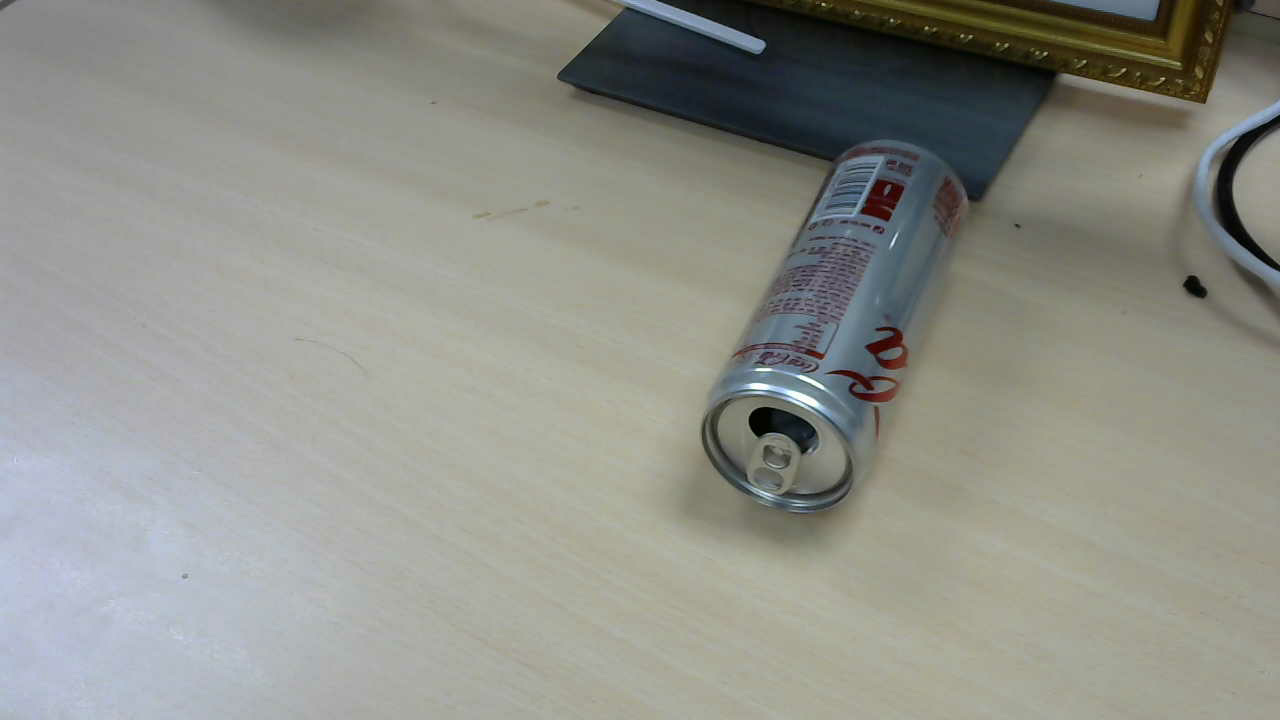Coca_Cola: (700, 140, 976, 520)
